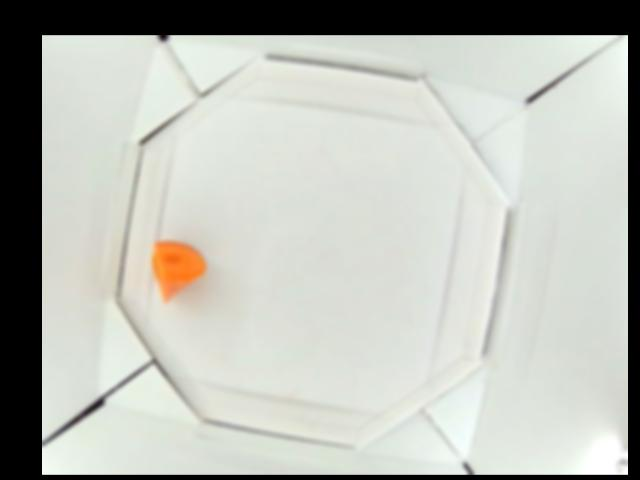Carrot: (151, 240, 205, 303)
